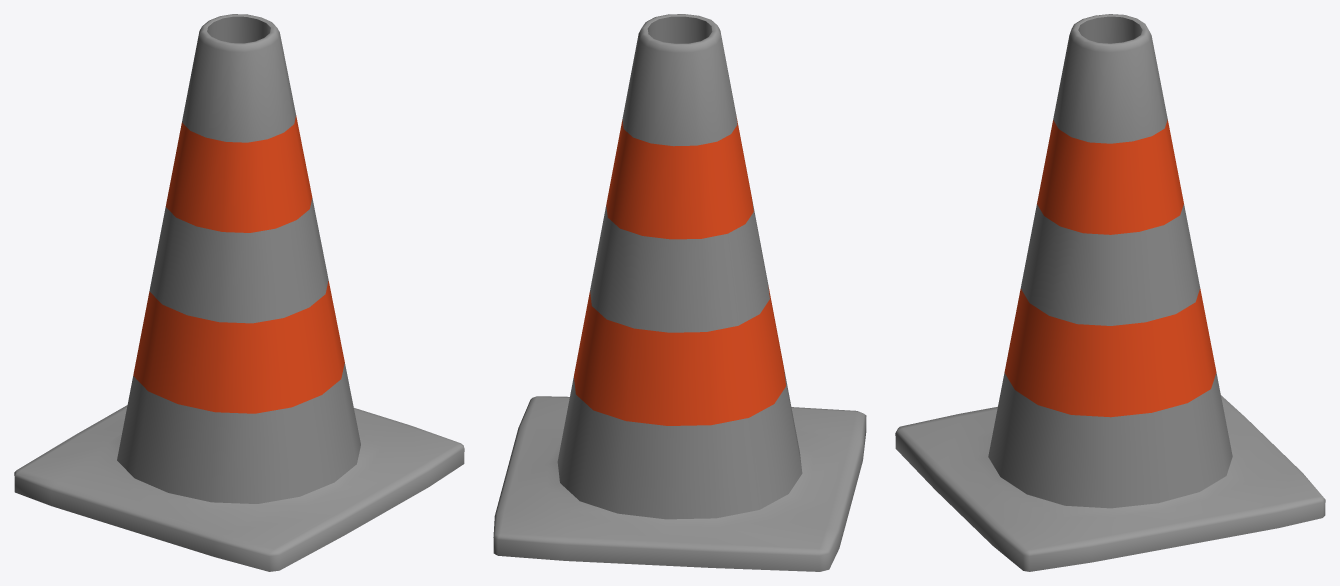
File: QSF_yuantong.FBX
3 views of the same model, side by side, from view 1: azimuth 30°, elevation 25°; view 2: azimuth 150°, elevation 25°; view 3: azimuth 270°, elevation 25° (orthographic). The views are drawn at different scales.
Parts seen in each view (by area): view 1: QSF_yuantong; view 2: QSF_yuantong; view 3: QSF_yuantong.
Part boxes in pixels (left/top/right/bottom): QSF_yuantong: left=14, top=14, right=464, bottom=571; QSF_yuantong: left=493, top=14, right=866, bottom=571; QSF_yuantong: left=895, top=14, right=1325, bottom=571.
Size of the model in its own units: 122 by 142 by 122.
